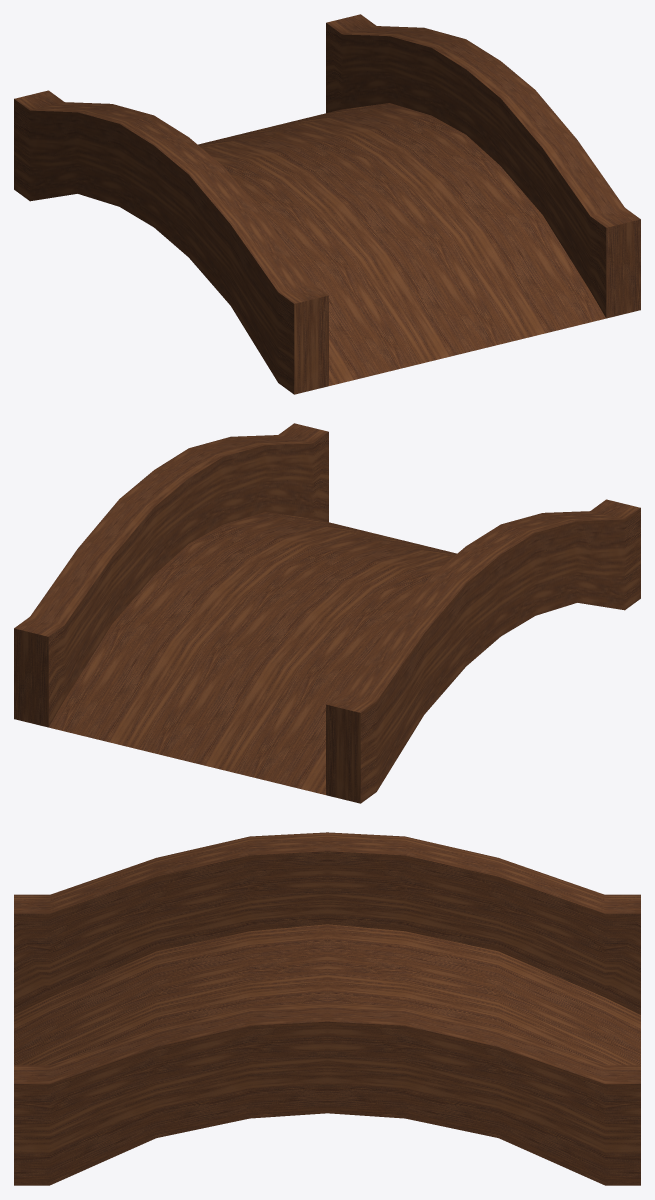
File: building_bridge.glb
3 renders of one model, top to bottom at view 1: azimuth 30°, elevation 25°; view 2: azimuth 150°, elevation 25°; view 3: azimuth 270°, elevation 25°, orthographic. The views are drawn at different scales.
Parts seen in each view (by area): view 1: bridge-col; view 2: bridge-col; view 3: bridge-col.
Boxes of the visible parts, <box> form: bridge-col: <box>14,14,640,394</box>; bridge-col: <box>14,423,640,803</box>; bridge-col: <box>14,832,640,1185</box>.
Bounding box in the file's own units: 2 × 0.8075 × 2.8.
Materials: 1 (1 with a texture image).
